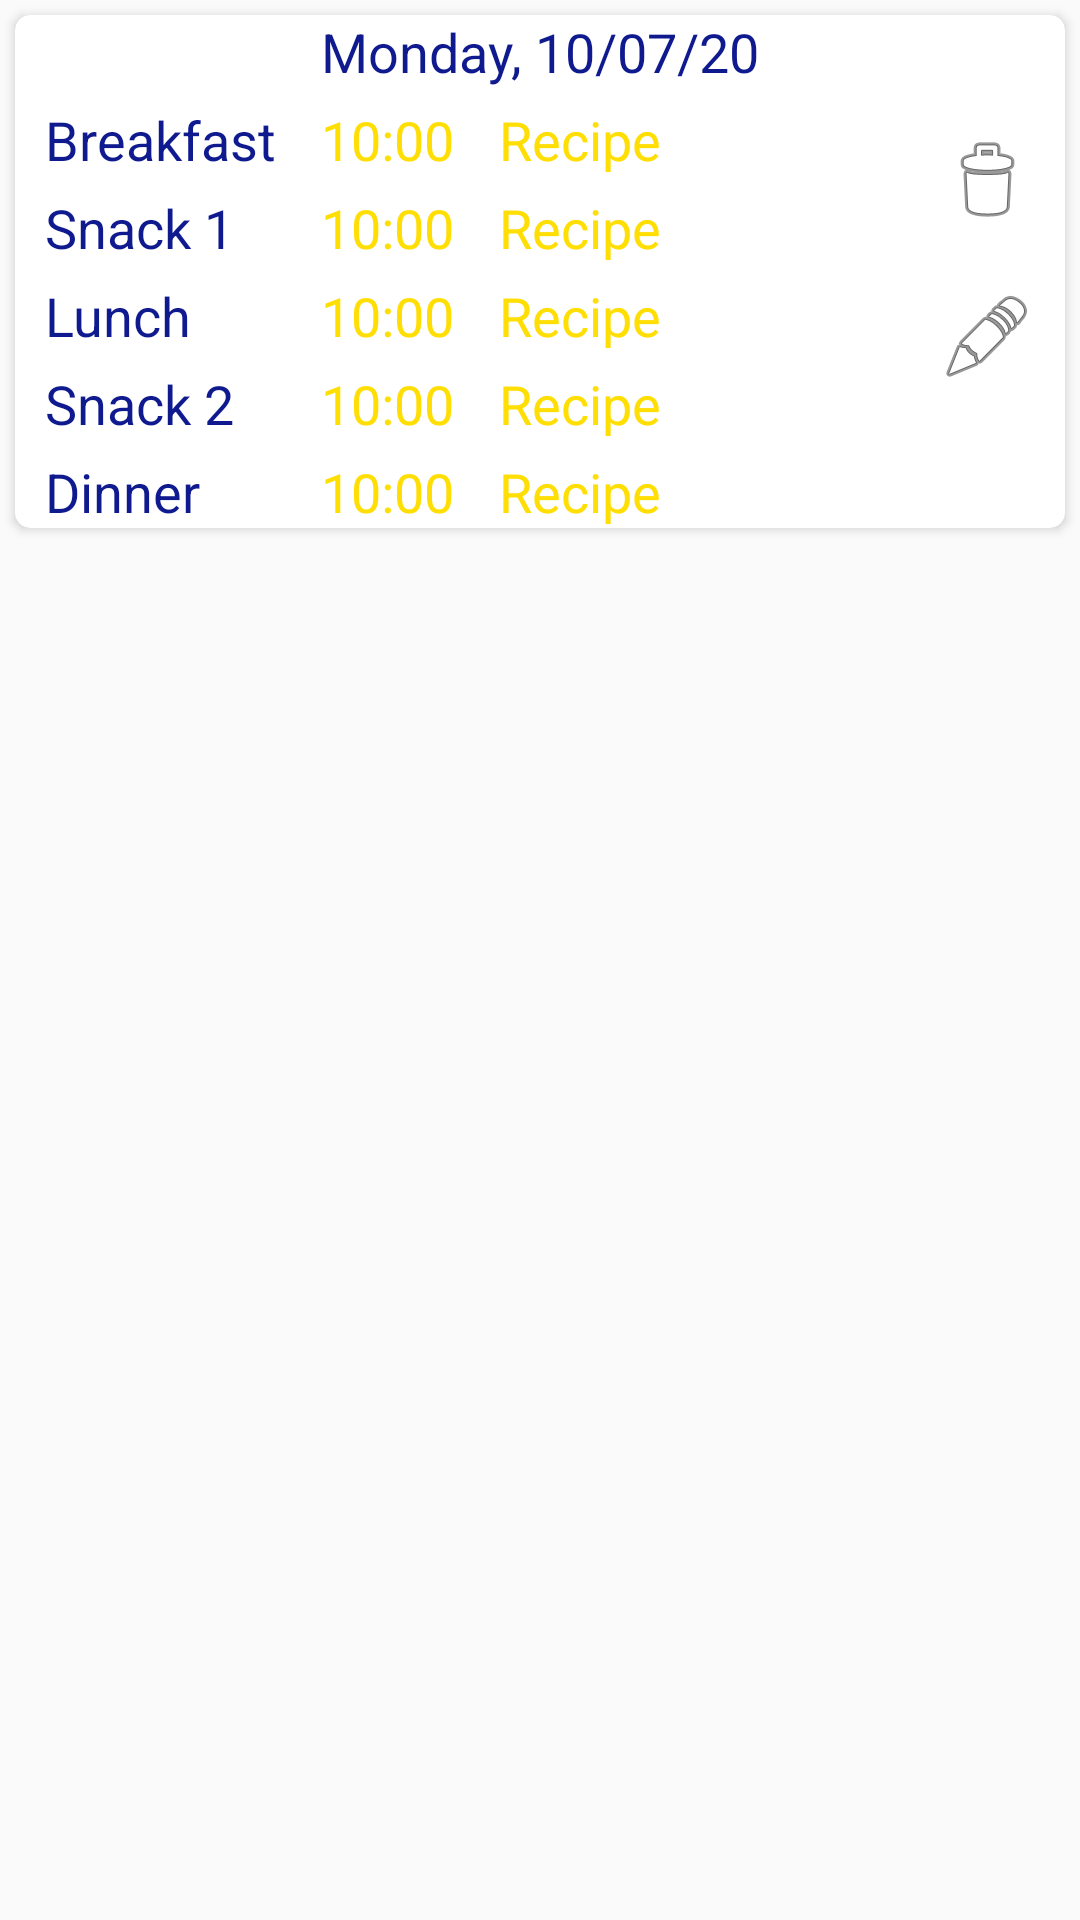

Point at icon controls on the screen. Image size 1080 x 1920, points as point (x, y).
delete: point (987, 179)
edit: point (986, 336)
